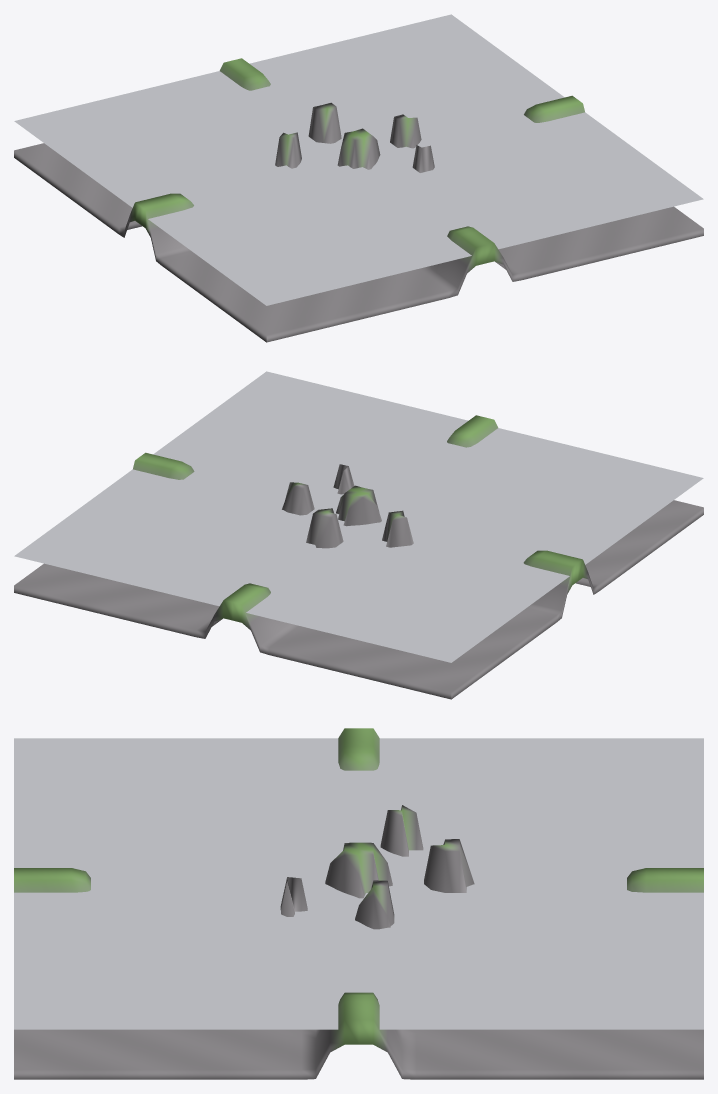
The model's file is far.glb.
3 views of the same model, one above another, from view 1: azimuth 30°, elevation 25°; view 2: azimuth 150°, elevation 25°; view 3: azimuth 270°, elevation 25° (orthographic). The views are drawn at different scales.
Visible parts, largest first — view 1: far-proxy; view 2: far-proxy; view 3: far-proxy.
Part boxes in pixels (x1,y1,x2,y2): far-proxy: (14,14,703,342); far-proxy: (14,371,703,699); far-proxy: (14,728,703,1079).
Size of the model in its own units: 500 by 71.53 by 500.
